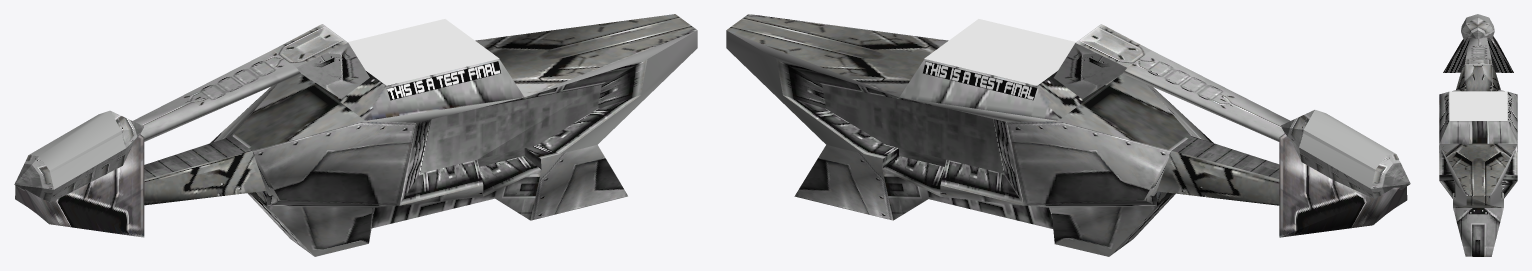
Rendered from sph13.obj.
3 renders of one model, left to right at view 1: azimuth 30°, elevation 25°; view 2: azimuth 150°, elevation 25°; view 3: azimuth 270°, elevation 25°, orthographic. The views are drawn at different scales.
Parts seen in each view (by area): view 1: SPH130, COCKPIT0, DECAL030.003, NAMEDECAL0.003; view 2: SPH130, COCKPIT0, DECAL030.003, NAMEDECAL0.003; view 3: SPH130, DECAL030.003, COCKPIT0, NAMEDECAL0.003.
Part boxes in pixels (x1,y1,x2,y2): SPH130: (15, 14, 697, 256); COCKPIT0: (14, 110, 143, 202); DECAL030.003: (348, 19, 499, 85); NAMEDECAL0.003: (386, 61, 500, 100); SPH130: (726, 14, 1407, 256); COCKPIT0: (1281, 110, 1410, 198); DECAL030.003: (924, 19, 1075, 85); NAMEDECAL0.003: (923, 61, 1037, 100); SPH130: (1439, 36, 1517, 256); DECAL030.003: (1449, 91, 1507, 120); COCKPIT0: (1461, 14, 1494, 41); NAMEDECAL0.003: (1444, 92, 1512, 126).
Bounding box in the file's own units: 72.39 × 22.92 × 13.68.
Materials: 4 (4 with a texture image).
